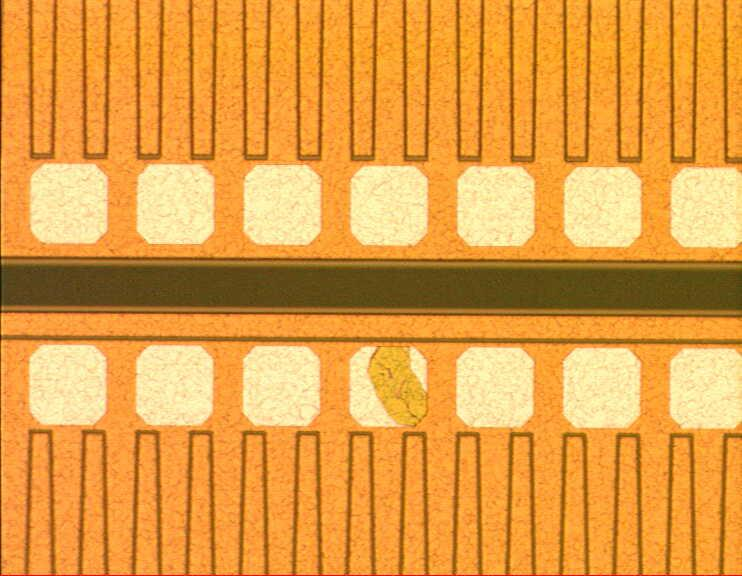BLOCK ETCH: (366, 344, 430, 431)
